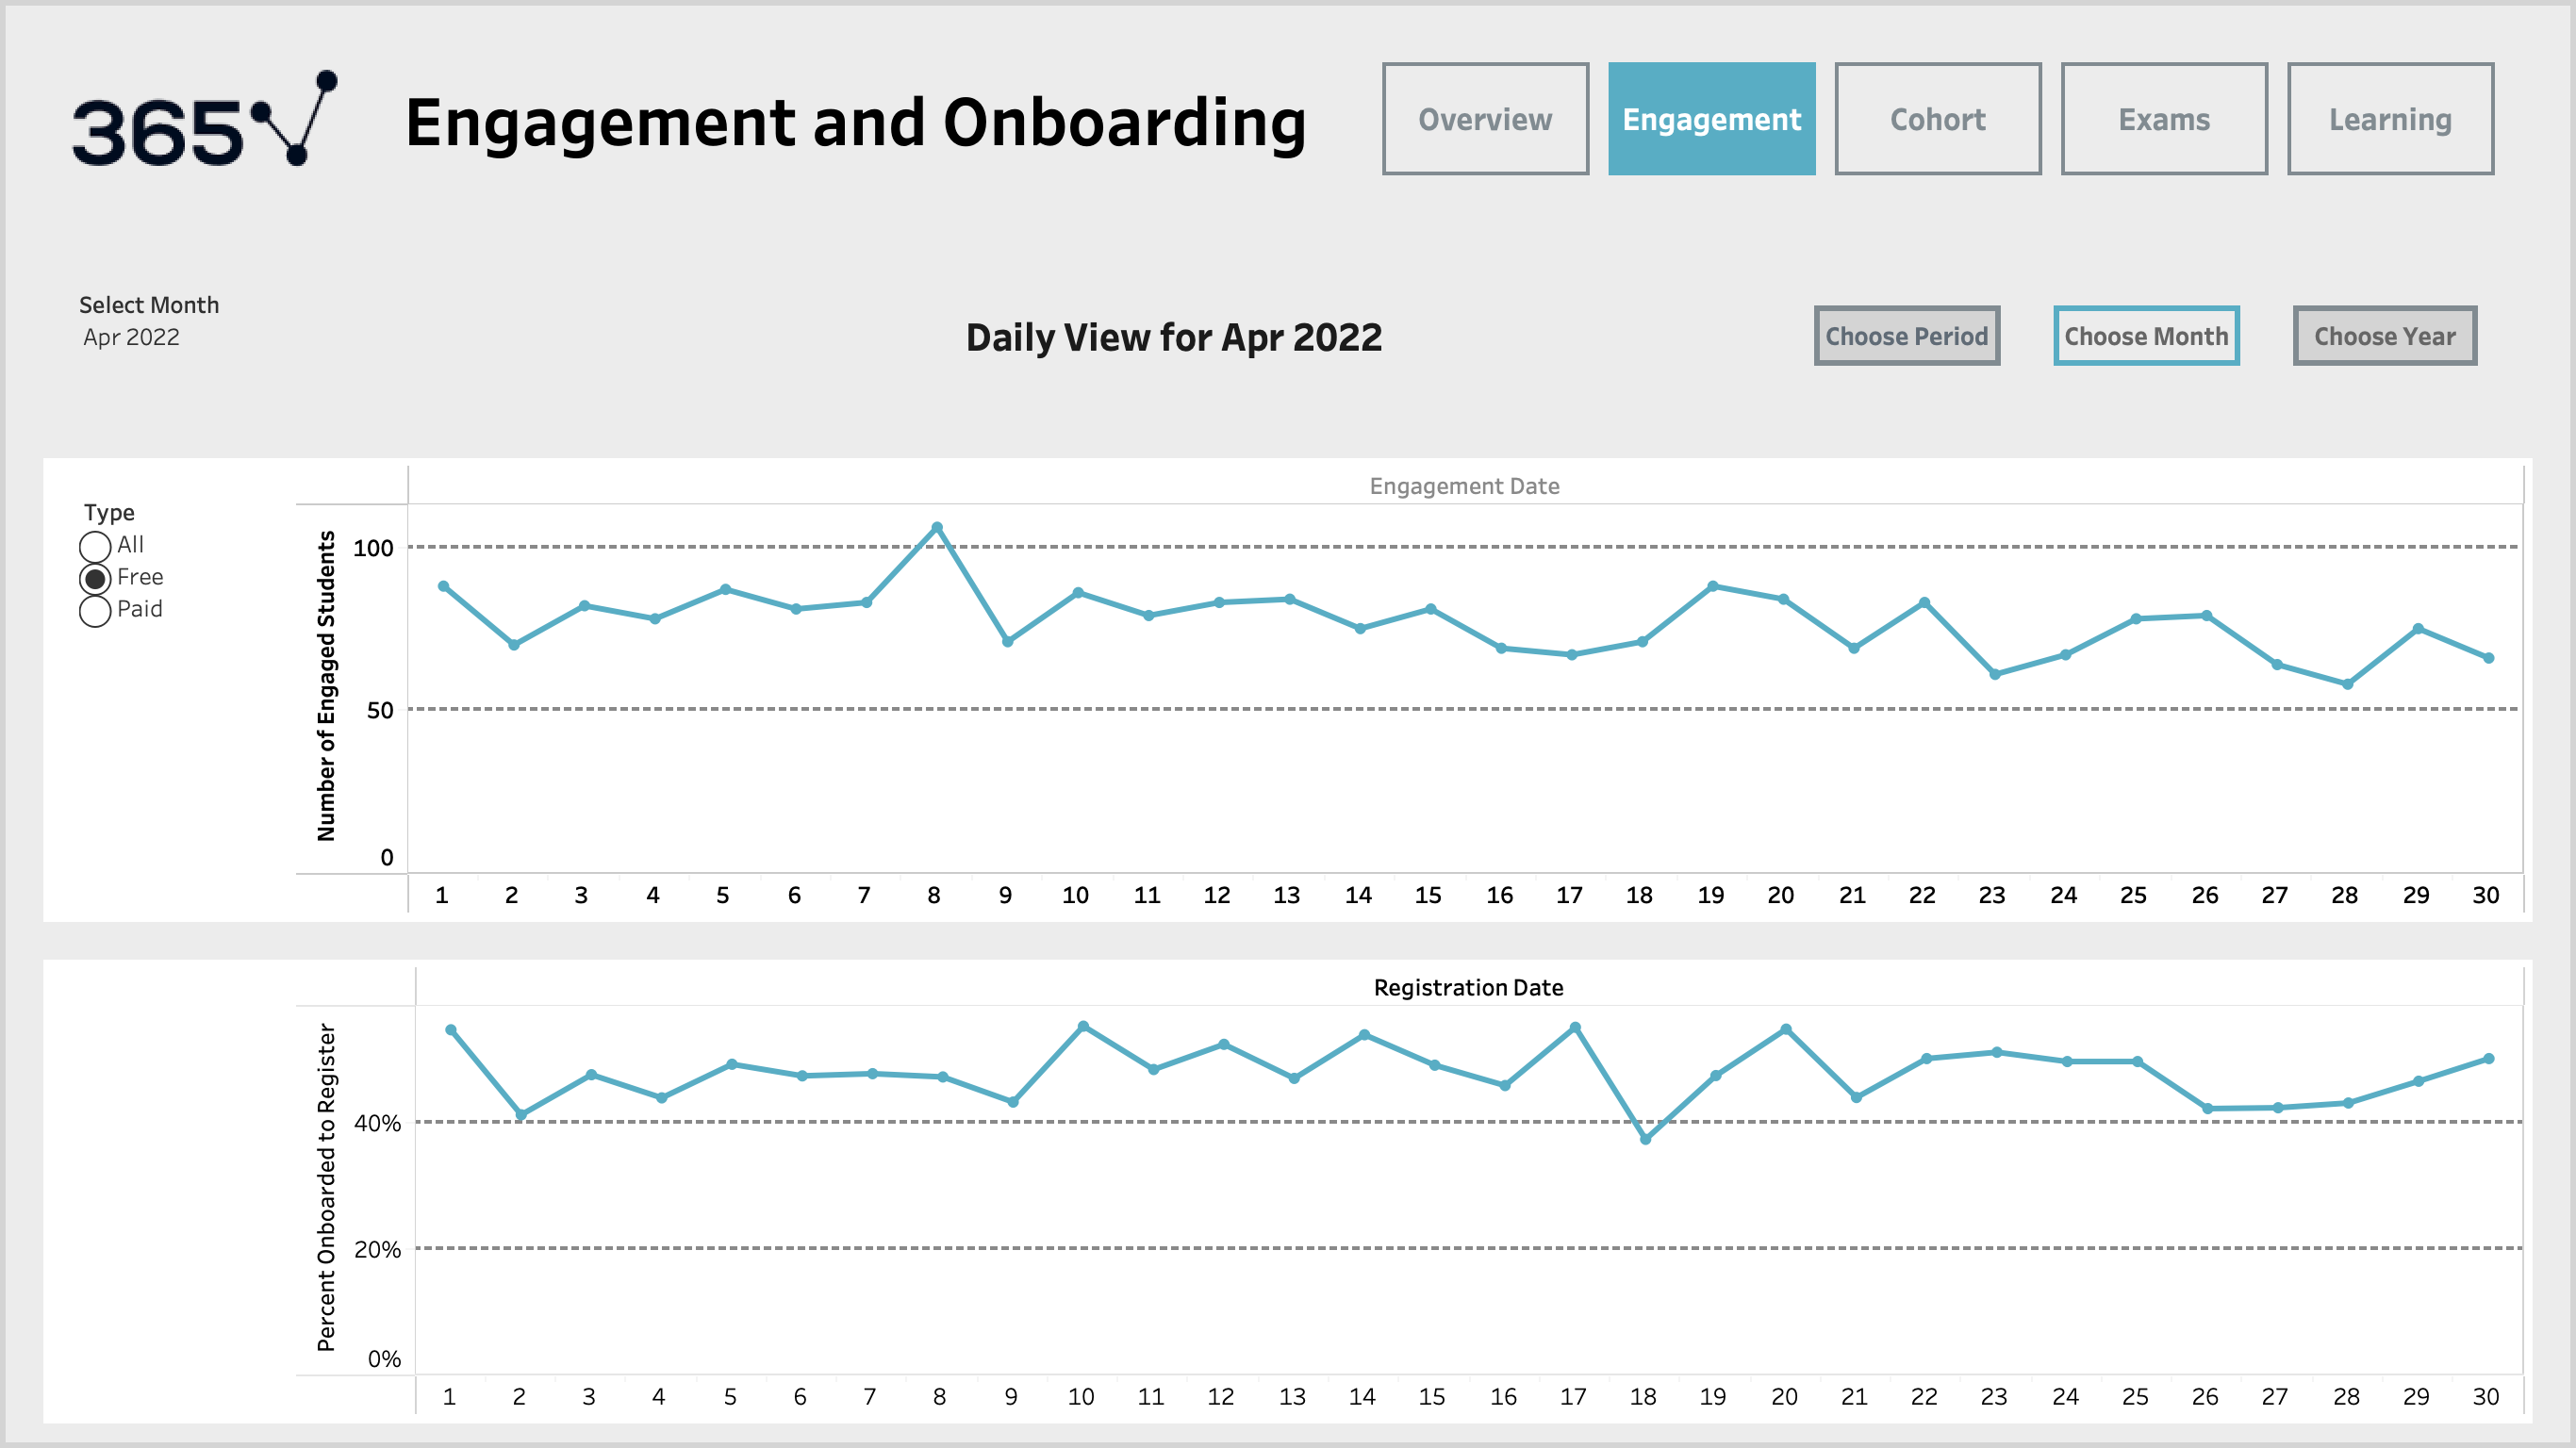

The page's visual inventory and layout, read from the dashboard file:
{"tool":"tableau","page":{"name":"Engagement Month","canvas":[1366,768],"ordinal":2},"visuals":[{"type":"image","param":"/Users/ayush/Downloads/images/logo.png","box":[38,28,142,70]},{"type":"text","box":[180,28,548,70]},{"type":"dashboard-object","box":[728,28,120,70]},{"type":"dashboard-object","box":[848,28,120,70]},{"type":"dashboard-object","box":[968,28,120,70]},{"type":"dashboard-object","box":[1088,28,120,70]},{"type":"dashboard-object","box":[1208,28,120,70]},{"type":"parameter","param":"[Parameters].[Parameter 5]","box":[38,148,260,60]},{"type":"text","box":[298,148,650,60]},{"type":"dashboard-object","box":[948,148,127,60]},{"type":"dashboard-object","box":[1075,148,127,60]},{"type":"dashboard-object","box":[1202,148,126,60]},{"type":"parameter","param":"[Parameters].[Student Type  (copy)_3486349064063385612]","box":[23,243,130,246]},{"type":"worksheet","title":"Engagement month","mark":"Automatic","rows":["student_id"],"cols":["Calculation_3486349064062668809","date_engaged"],"box":[153,243,1189.6,246]},{"type":"blank","box":[23,509,130,246]},{"type":"worksheet","title":"Onboarding month","mark":"Automatic","rows":["Calculation_3486349064077807632"],"cols":["Calculation_3486349064078913555","date_registered"],"box":[153,509,1189.9,246]}]}

Visuals, with their boxes in screenshot pixels (x1, y1, x2, y2), scaled from the page's 1366x768 canvas onto the 2576x1448 screenshot:
image: 72,53,339,185
text: 339,53,1373,185
dashboard-object: 1373,53,1599,185
dashboard-object: 1599,53,1825,185
dashboard-object: 1825,53,2052,185
dashboard-object: 2052,53,2278,185
dashboard-object: 2278,53,2504,185
parameter: 72,279,562,392
text: 562,279,1788,392
dashboard-object: 1788,279,2027,392
dashboard-object: 2027,279,2267,392
dashboard-object: 2267,279,2504,392
parameter: 43,458,289,922
"Engagement month" worksheet: 289,458,2532,922
blank: 43,960,289,1423
"Onboarding month" worksheet: 289,960,2533,1423
